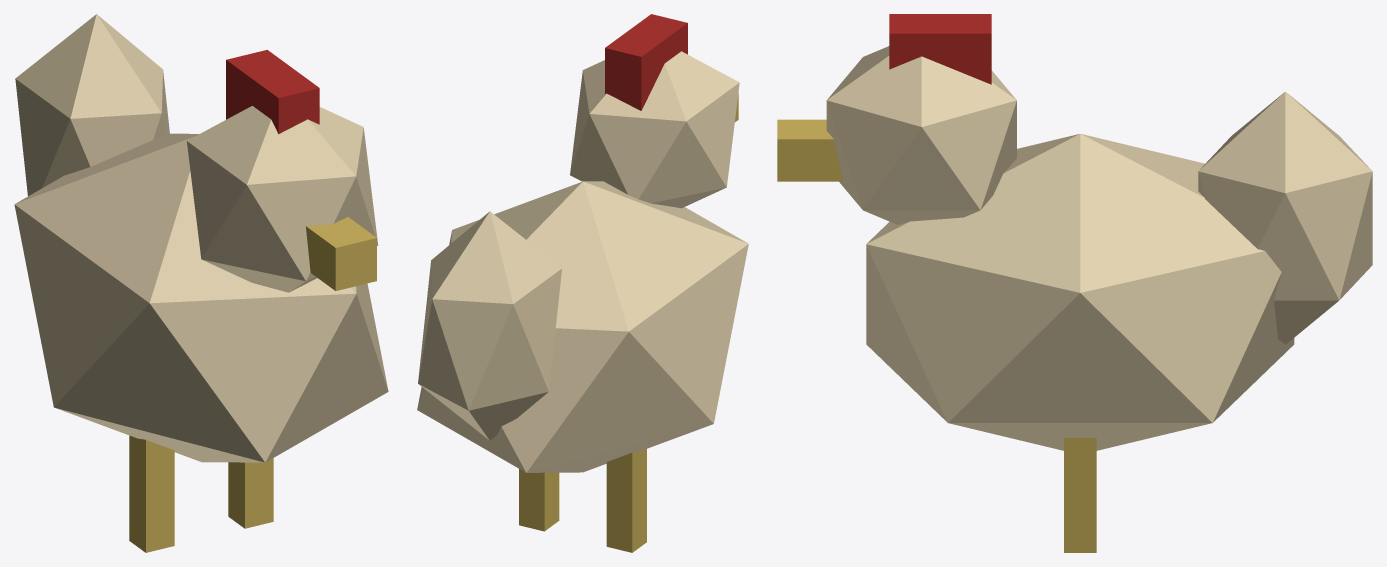
Rendered from prop_chicken.glb.
3 renders of one model, left to right at view 1: azimuth 30°, elevation 25°; view 2: azimuth 150°, elevation 25°; view 3: azimuth 270°, elevation 25°, orthographic. The views are drawn at different scales.
Visible parts, largest first — view 1: prop_chicken; view 2: prop_chicken; view 3: prop_chicken.
Part boxes in pixels (x1,y1,x2,y2): prop_chicken: (14,14,388,552); prop_chicken: (417,14,748,552); prop_chicken: (777,14,1372,552).
Size of the model in its own units: 0.3578 by 0.59 by 0.6386.
